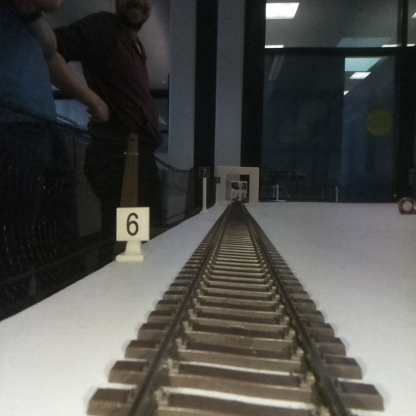black-info-7: (200, 166, 210, 212)
white-stop-6: (116, 206, 149, 260)
